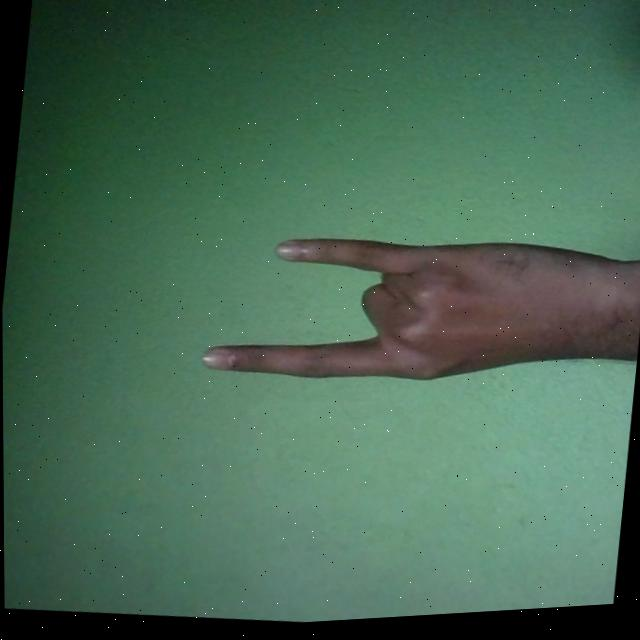Rock On: (197, 210, 639, 418)
